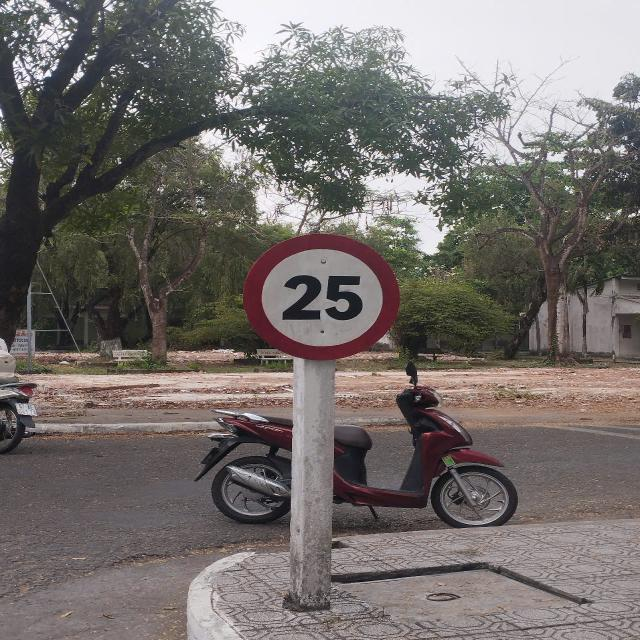Tre_Em: (242, 233, 402, 361)
